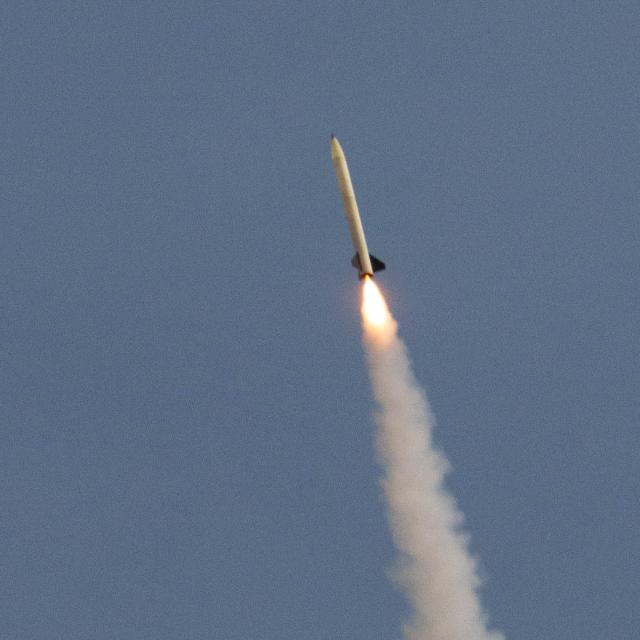Rocket: (330, 133, 387, 283)
